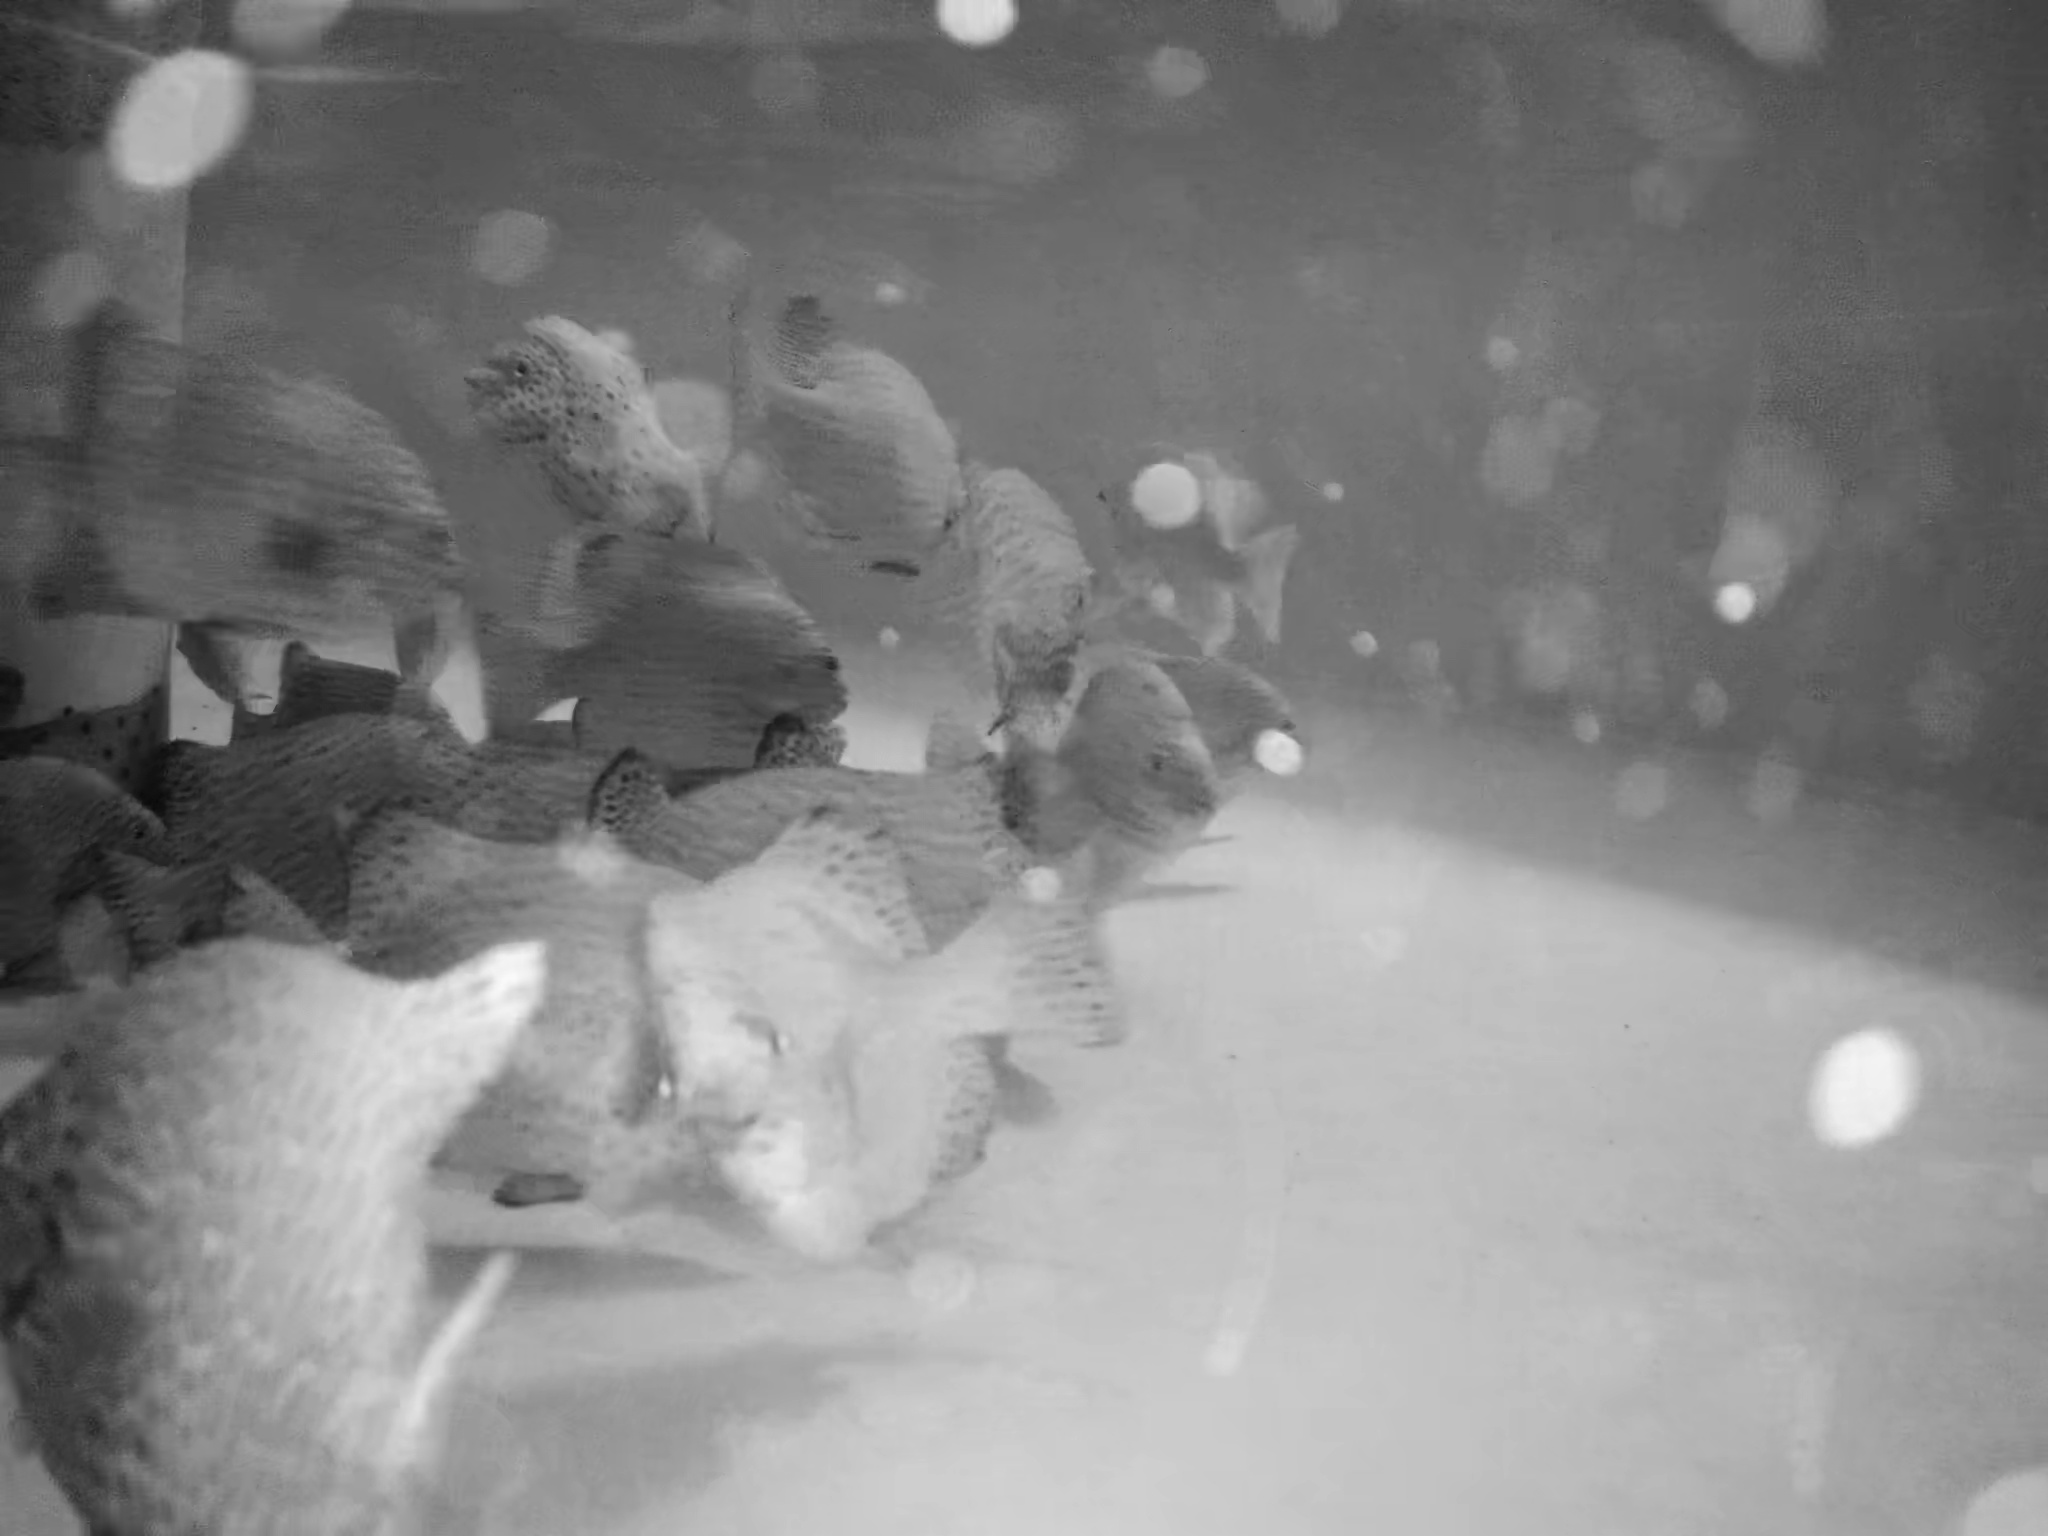fish: (19, 950, 563, 1536), (627, 800, 1118, 1221), (229, 842, 755, 1170), (48, 328, 460, 631), (619, 765, 1029, 949), (726, 273, 956, 563), (139, 720, 505, 879), (995, 644, 1209, 852), (934, 437, 1098, 657), (1116, 437, 1298, 632), (2, 737, 189, 921), (261, 645, 479, 778), (543, 390, 734, 536), (1150, 641, 1305, 794), (469, 300, 660, 419), (984, 652, 1098, 728)
